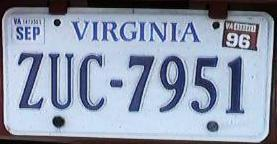placa de veiculo: (2, 7, 272, 140)
